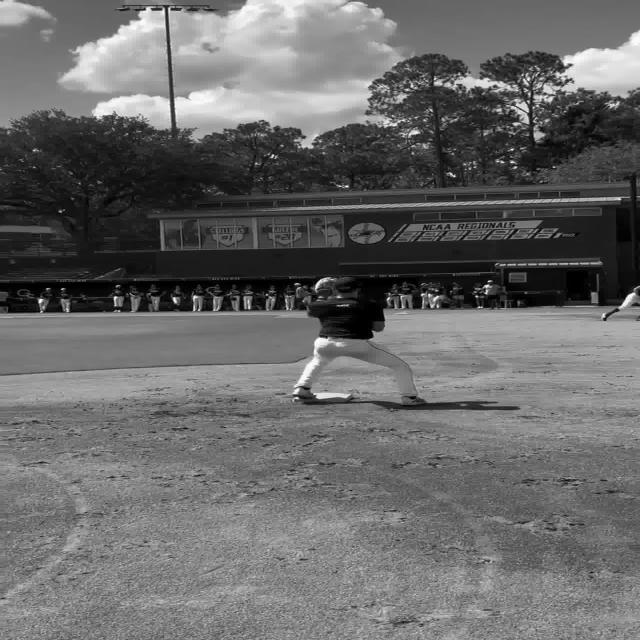base: (293, 392, 353, 404)
baseball_glove: (313, 278, 336, 298)
shoe: (291, 386, 316, 400), (400, 396, 427, 406)
